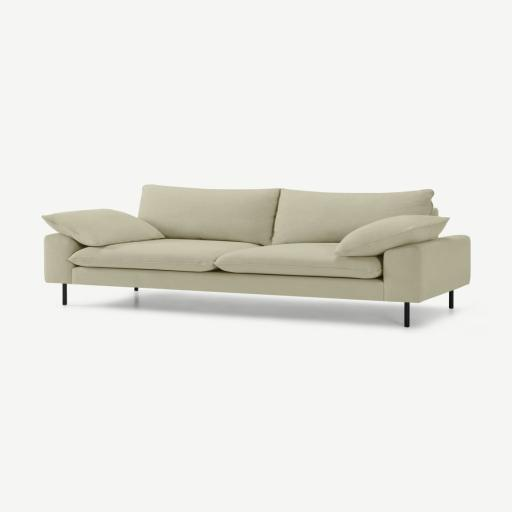back_cushion: (139, 185, 433, 245)
base: (64, 267, 387, 300)
left_arm: (382, 235, 470, 307)
legs: (404, 302, 409, 327), (448, 290, 454, 309), (62, 284, 67, 305), (134, 288, 138, 290)
right_arm: (44, 234, 84, 284)
seat_cushion: (70, 239, 382, 279)
two-seater: (0, 0, 511, 512)
